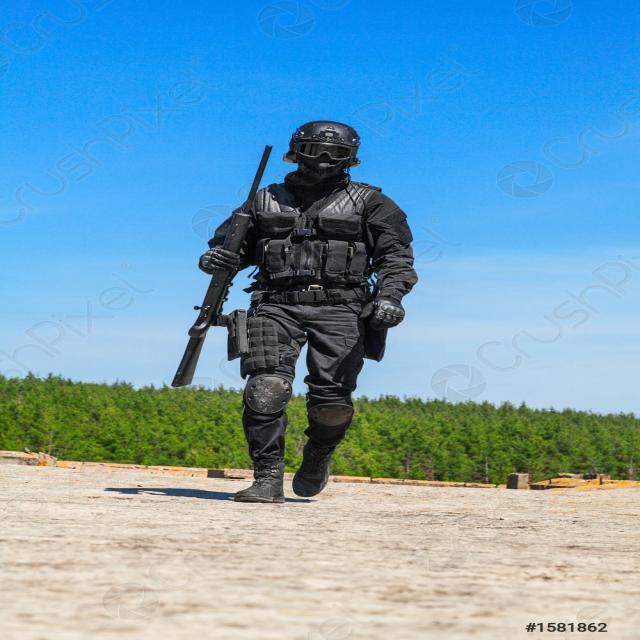rifle: (144, 142, 286, 412)
